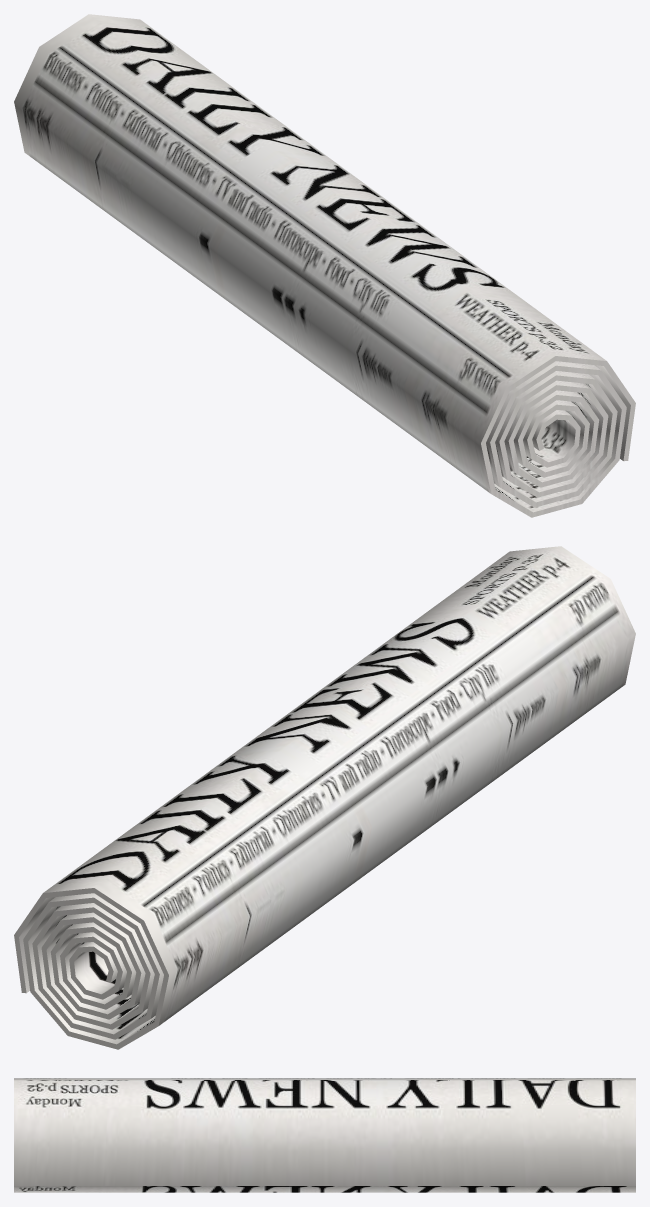
File: Newspaper 2.fbx
3 views of the same model, one above another, from view 1: azimuth 30°, elevation 25°; view 2: azimuth 150°, elevation 25°; view 3: azimuth 270°, elevation 25° (orthographic). The views are drawn at different scales.
Visible parts, largest first — view 1: pPlane1; view 2: pPlane1; view 3: pPlane1.
Part boxes in pixels (<box>): pPlane1: <box>14,14,635,517</box>; pPlane1: <box>14,546,635,1049</box>; pPlane1: <box>14,1078,635,1192</box>.
Size of the model in its own units: 3.25 by 3.12 by 16.93.
Materials: 1 (1 with a texture image).
